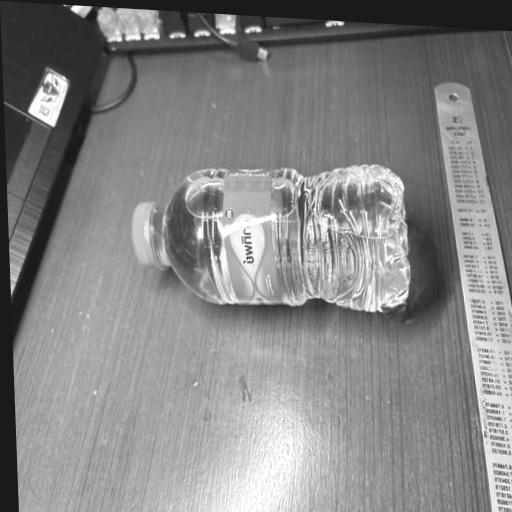ba: (104, 97, 456, 374)
